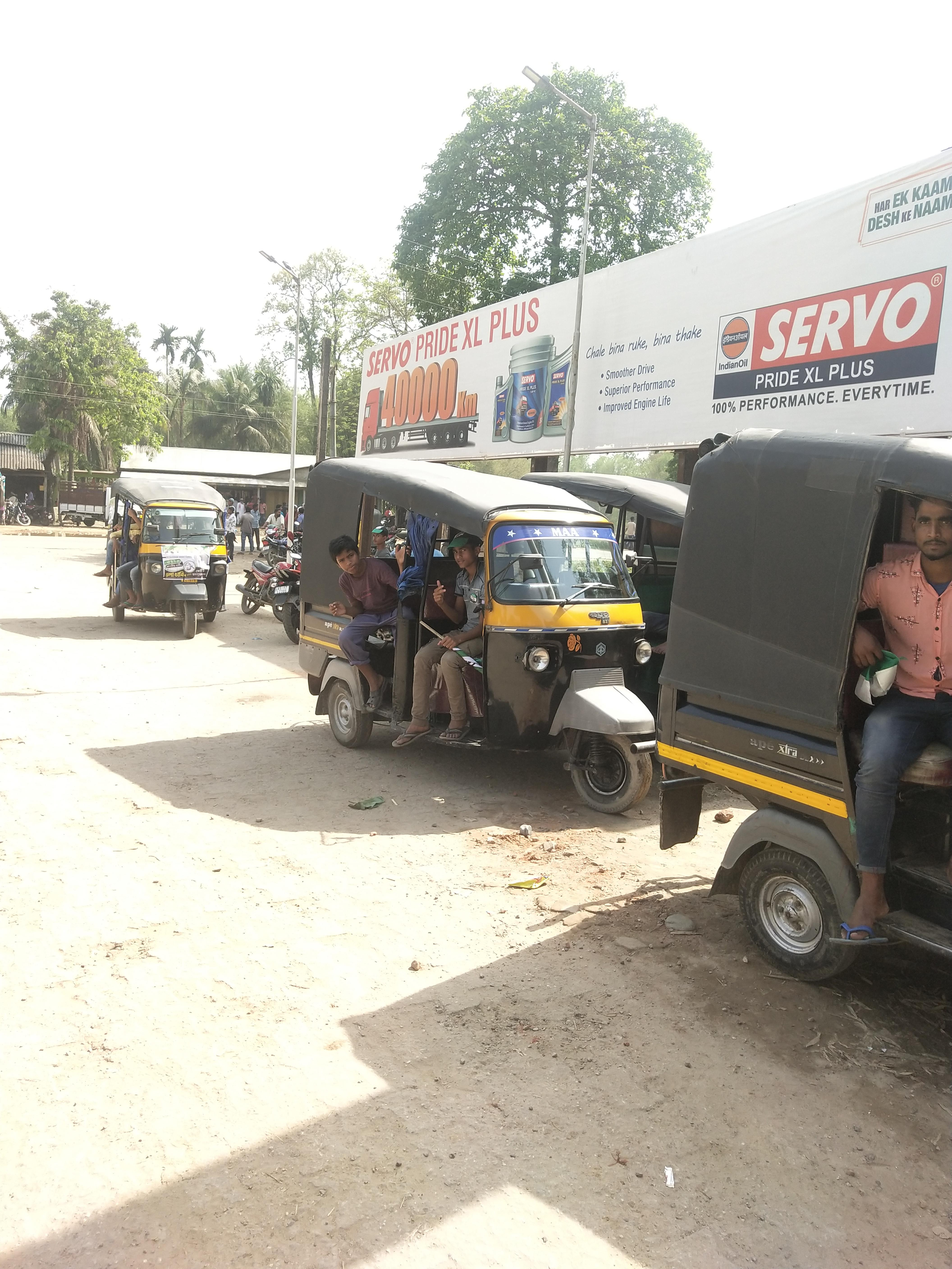non-ambulance: (668, 421, 952, 1087), (292, 450, 674, 880), (93, 432, 251, 664)
